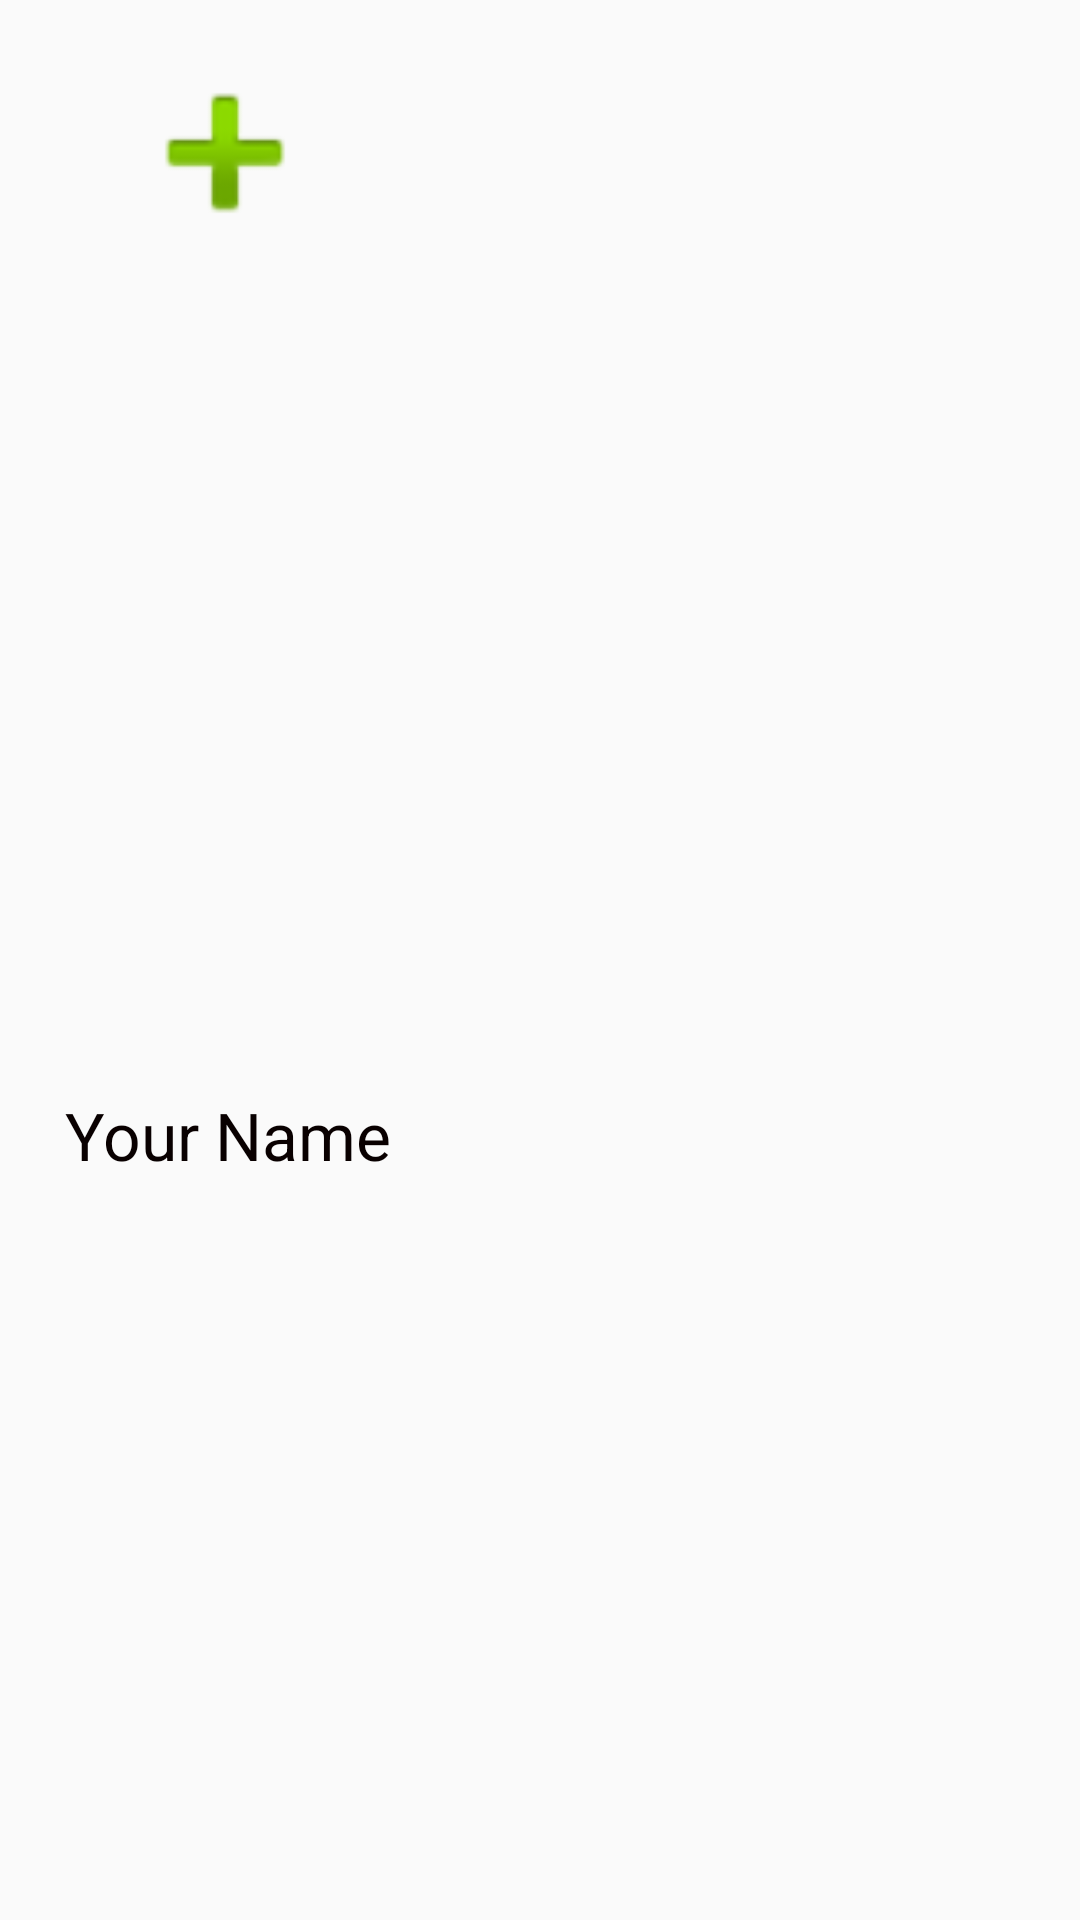

Named icons in this screenshot (1080px×1920px) and their bounding boxes, {"x1": x1, "y1": y1, "x2": x2, "y2": y2}:
add: {"x1": 165, "y1": 93, "x2": 285, "y2": 213}
